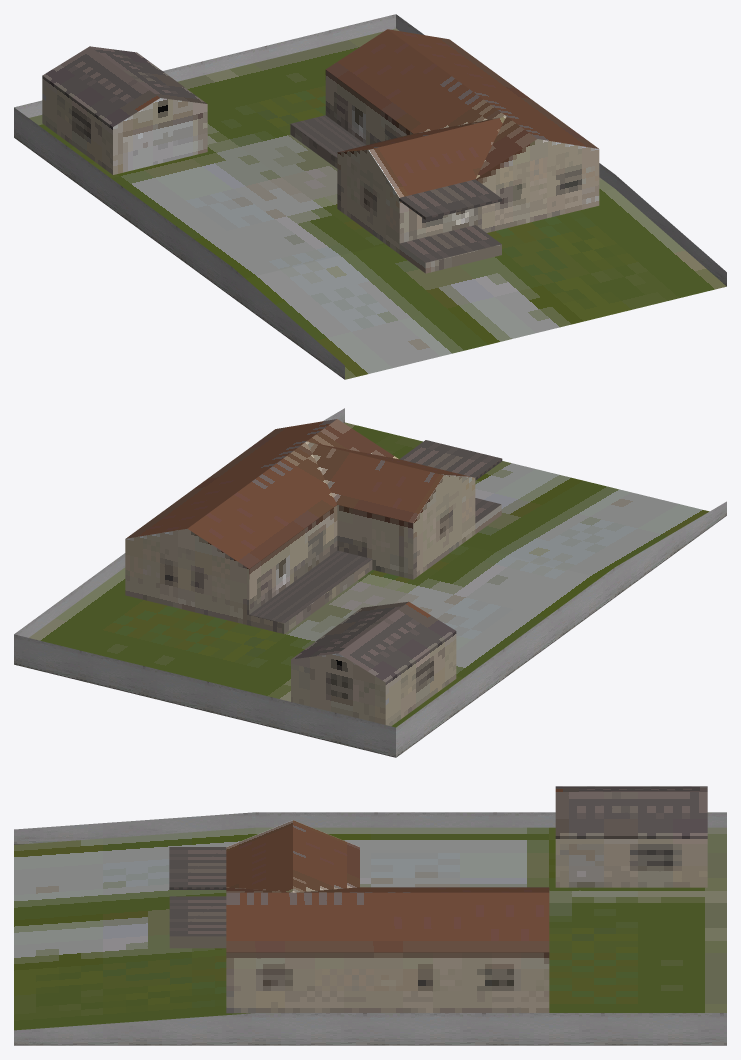
Rendered from lodswbigburb04.obj.
The picture shows the model from 3 angles, top to bottom: view 1: azimuth 30°, elevation 25°; view 2: azimuth 150°, elevation 25°; view 3: azimuth 270°, elevation 25°; orthographic projection. The views are drawn at different scales.
Parts seen in each view (by area): view 1: LODswbigburb04; view 2: LODswbigburb04; view 3: LODswbigburb04.
Part boxes in pixels (x1,y1,x2,y2): LODswbigburb04: [14, 14, 726, 379]; LODswbigburb04: [14, 408, 726, 757]; LODswbigburb04: [14, 786, 726, 1045].
Bounding box in the file's own units: 25 × 6.11 × 37.5.
Materials: 3 (3 with a texture image).
